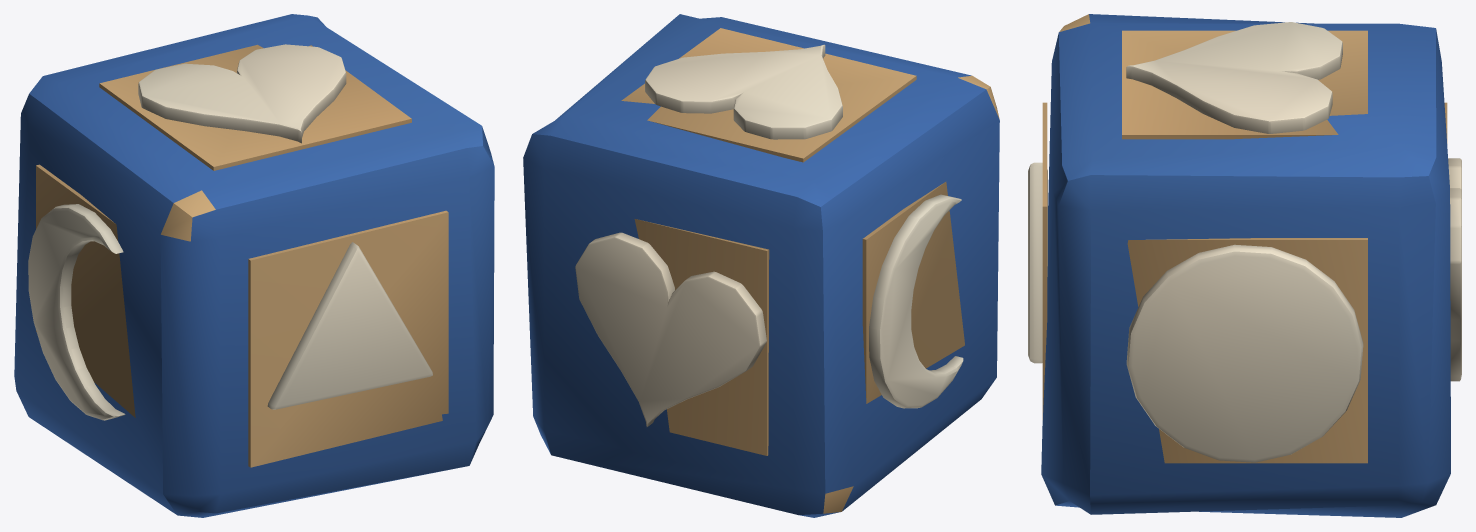
File: den_block_blue.glb
3 renders of one model, left to right at view 1: azimuth 30°, elevation 25°; view 2: azimuth 150°, elevation 25°; view 3: azimuth 270°, elevation 25°, orthographic. The views are drawn at different scales.
Parts seen in each view (by area): view 1: den_block_blue; view 2: den_block_blue; view 3: den_block_blue.
Boxes of the visible parts, x1,y1,x2,y2 form: den_block_blue: (14, 14, 494, 517); den_block_blue: (523, 14, 999, 517); den_block_blue: (1028, 14, 1461, 517).
Size of the model in its own units: 4.93 by 4.82 by 4.93.
